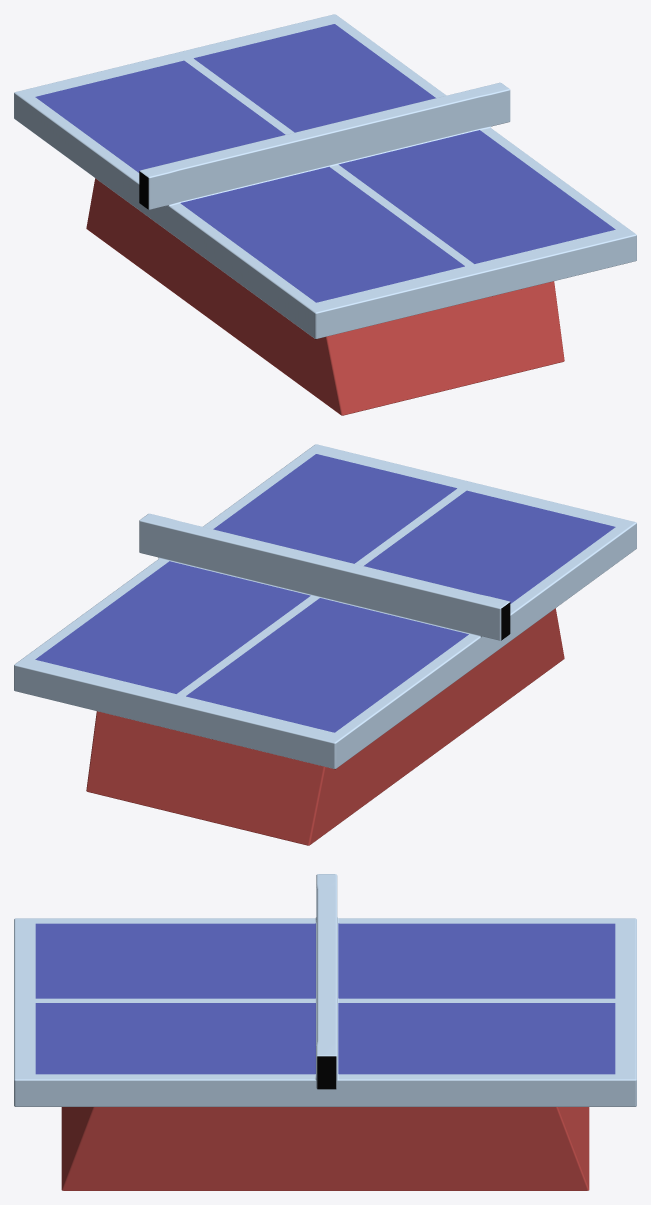
File: table-template.glb
3 renders of one model, top to bottom at view 1: azimuth 30°, elevation 25°; view 2: azimuth 150°, elevation 25°; view 3: azimuth 270°, elevation 25°, orthographic. The views are drawn at different scales.
Parts seen in each view (by area): view 1: Cube; view 2: Cube; view 3: Cube.
Boxes of the visible parts, x1,y1,x2,y2 form: Cube: (14, 14, 636, 415); Cube: (14, 444, 636, 845); Cube: (14, 874, 636, 1190).
Size of the model in its own units: 1.8 by 0.7847 by 2.6.
1 material, 1 textured.
